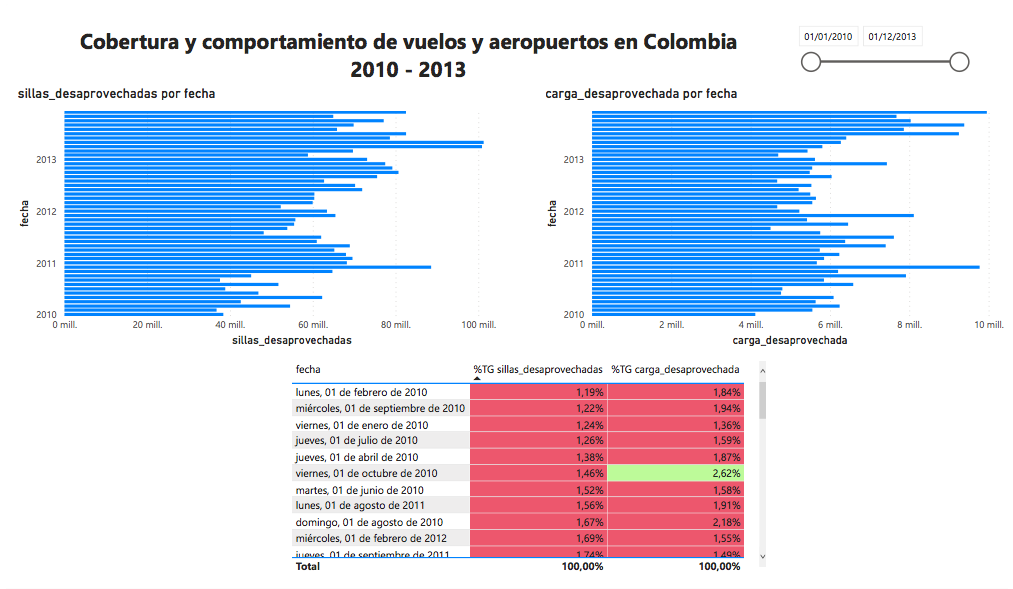

The page's visual inventory and layout, read from the dashboard file:
{"tool":"powerbi","page":{"name":"Página 2","canvas":[1280,720],"ordinal":1},"visuals":[{"type":"barChart","fields":{"Category":["fechas.fecha"],"Y":["vuelos.sillas_desaprovechadas"]},"box":[10.4,90.5,674.2,337.7],"z":0},{"type":"barChart","fields":{"Category":["fechas.fecha"],"Y":["vuelos.carga_desaprovechada"]},"box":[684.7,90.5,595.3,337.7],"z":1},{"type":"tableEx","fields":{"Values":["fechas.fecha","vuelos.medida","vuelos.Medida"]},"box":[359.7,437.5,617.4,282],"z":2},{"type":"slicer","fields":{"Values":["fechas.fecha"]},"box":[1000.3,4.6,239.1,89.4],"z":3},{"type":"textbox","box":[56.9,9.3,922.6,81.2],"z":4}]}

Visuals, with their boxes on the page's 1280x720 design canvas (x1, y1, x2, y2). These are canvas units, not pixel positions in the 1013x589 screenshot, which may show the page scaled, cropped or inside an application window:
barChart - fechas.fecha x vuelos.sillas_desaprovechadas: Rect(10, 90, 685, 428)
barChart - fechas.fecha x vuelos.carga_desaprovechada: Rect(685, 90, 1280, 428)
tableEx - fechas.fecha x vuelos.medida: Rect(360, 438, 977, 720)
slicer - fechas.fecha: Rect(1000, 5, 1239, 94)
textbox: Rect(57, 9, 980, 90)
